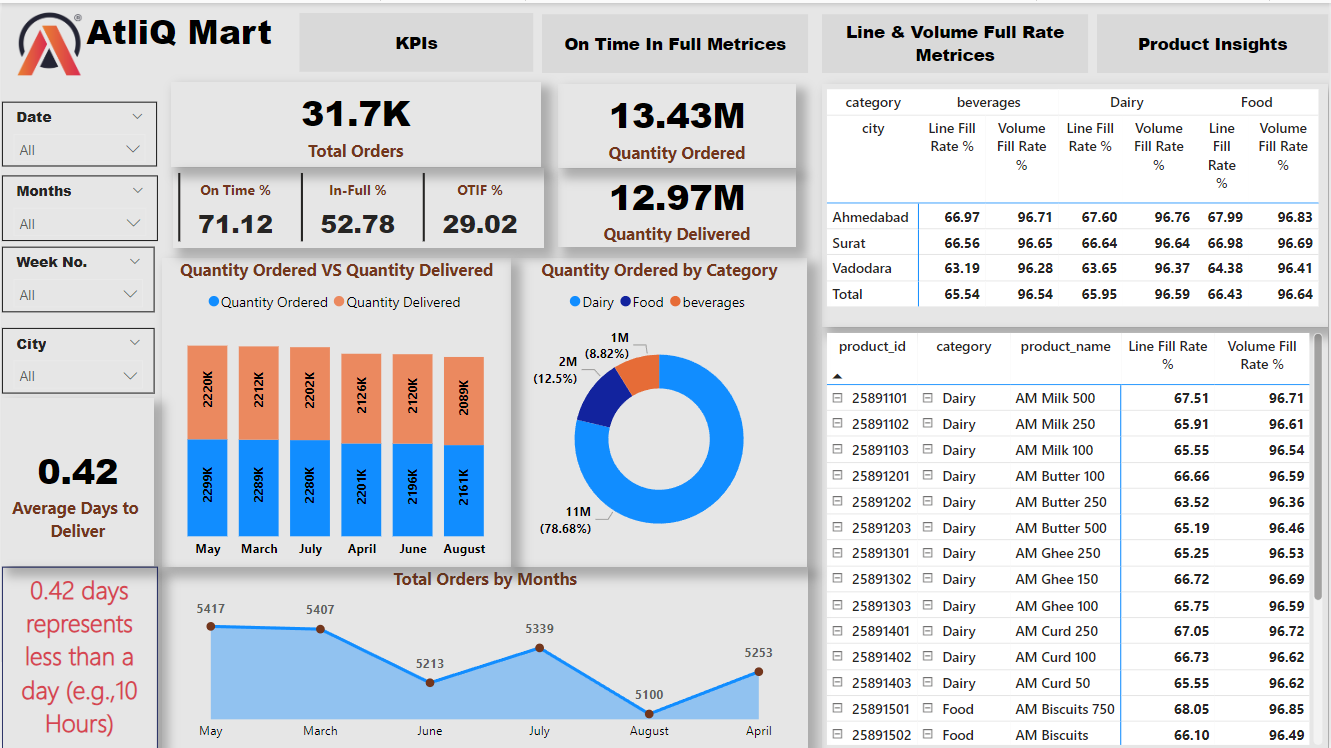

What the dashboard file says about the page in this screenshot:
{"tool":"powerbi","page":{"name":"product insights","canvas":[1280,720],"ordinal":3},"visuals":[{"type":"textbox","box":[9.7,0,290.8,78.4],"z":0},{"type":"image","box":[10,0,74,78.2],"z":1000},{"type":"slicer","fields":{"Values":["dim_date.date"]},"box":[0,95.3,149.6,62.7],"z":2000},{"type":"slicer","fields":{"Values":["dim_date.mmm_yy.Variation.Date Hierarchy.Month"]},"box":[0,166.2,150,63.2],"z":3000},{"type":"slicer","fields":{"Values":["dim_date.week_no"]},"box":[0,235.3,147.1,63.2],"z":4000},{"type":"slicer","fields":{"Values":["dim_customers.city"]},"box":[0,313.2,147.1,63.2],"z":5000},{"type":"actionButton","box":[287.1,9.7,225.6,56.7],"z":6000},{"type":"actionButton","box":[521.2,10.9,257,56.7],"z":7000},{"type":"actionButton","box":[791.4,10.9,257,56.7],"z":8000},{"type":"actionButton","box":[1056.8,10.9,223.2,56.7],"z":9000},{"type":"pivotTable","fields":{"Values":["fact_order_lines.Line Fill Rate %","fact_order_lines.Volume Fill Rate %"],"Rows":["dim_customers.city"],"Columns":["dim_products.category"]},"box":[791.3,78.3,488.4,234.8],"z":10000},{"type":"pivotTable","fields":{"Values":["fact_order_lines.Line Fill Rate %","fact_order_lines.Volume Fill Rate %"],"Rows":["dim_products.product_id","dim_products.category","dim_products.product_name"]},"box":[791.2,313.2,488.2,407.4],"z":11000},{"type":"card","fields":{"Values":["fact_order_lines.TotalOrders"]},"box":[163.2,76.5,357.4,82.4],"z":12000},{"type":"cardVisual","fields":{"Data":["fact_order_lines.On Time delivery %","fact_orders_aggregate.In-Full Delivery %","fact_orders_aggregate.OTIF Delivery %"]},"box":[164.7,158.8,357.4,76.5],"z":13000},{"type":"card","fields":{"Values":["fact_order_lines.Quantity Ordered"]},"box":[536.8,77.9,229.4,80.9],"z":14000},{"type":"card","fields":{"Values":["fact_order_lines.Quantity Delivered"]},"box":[536.8,160.3,229.4,75],"z":15000},{"type":"areaChart","title":"Total Orders by Months","fields":{"Category":["dim_date.Month Name"],"Y":["fact_order_lines.TotalOrders"]},"box":[154.4,544.1,623.5,176.5],"z":16000},{"type":"card","fields":{"Values":["fact_order_lines.Average Days to Deliver"]},"box":[0,381.2,146.4,162.3],"z":17000},{"type":"columnChart","title":"Quantity Ordered VS  Quantity Delivered","fields":{"Y":["fact_order_lines.Quantity Ordered","fact_order_lines.Quantity Delivered"],"Category":["dim_date.Month Name"]},"box":[154.4,245.6,336.8,298.5],"z":18000},{"type":"donutChart","title":"Quantity Ordered by Category","fields":{"Category":["dim_products.category"],"Y":["fact_order_lines.Quantity Ordered"]},"box":[491.2,245.6,286.8,298.5],"z":19000},{"type":"textbox","box":[0,544,150,176],"z":20000}]}

Visuals, with their boxes in screenshot pixels (x1, y1, x2, y2), scaled from the page's 1280x720 canvas onto the 1331x748 screenshot:
textbox: 10:0:312:81
image: 10:0:87:81
slicer - dim_date.date: 0:99:156:164
slicer - dim_date.mmm_yy.Variation.Date Hierarchy.Month: 0:173:156:238
slicer - dim_date.week_no: 0:244:153:310
slicer - dim_customers.city: 0:325:153:391
actionButton: 299:10:533:69
actionButton: 542:11:809:70
actionButton: 823:11:1090:70
actionButton: 1099:11:1330:70
pivotTable - fact_order_lines.Line Fill Rate % x fact_order_lines.Volume Fill Rate %: 823:81:1330:325
pivotTable - fact_order_lines.Line Fill Rate % x fact_order_lines.Volume Fill Rate %: 823:325:1330:747
card - fact_order_lines.TotalOrders: 170:79:541:165
cardVisual - fact_order_lines.On Time delivery % x fact_orders_aggregate.In-Full Delivery %: 171:165:543:244
card - fact_order_lines.Quantity Ordered: 558:81:797:165
card - fact_order_lines.Quantity Delivered: 558:167:797:244
"Total Orders by Months" areaChart: 161:565:809:747
card - fact_order_lines.Average Days to Deliver: 0:396:152:565
"Quantity Ordered VS  Quantity Delivered" columnChart: 161:255:511:565
"Quantity Ordered by Category" donutChart: 511:255:809:565
textbox: 0:565:156:747
